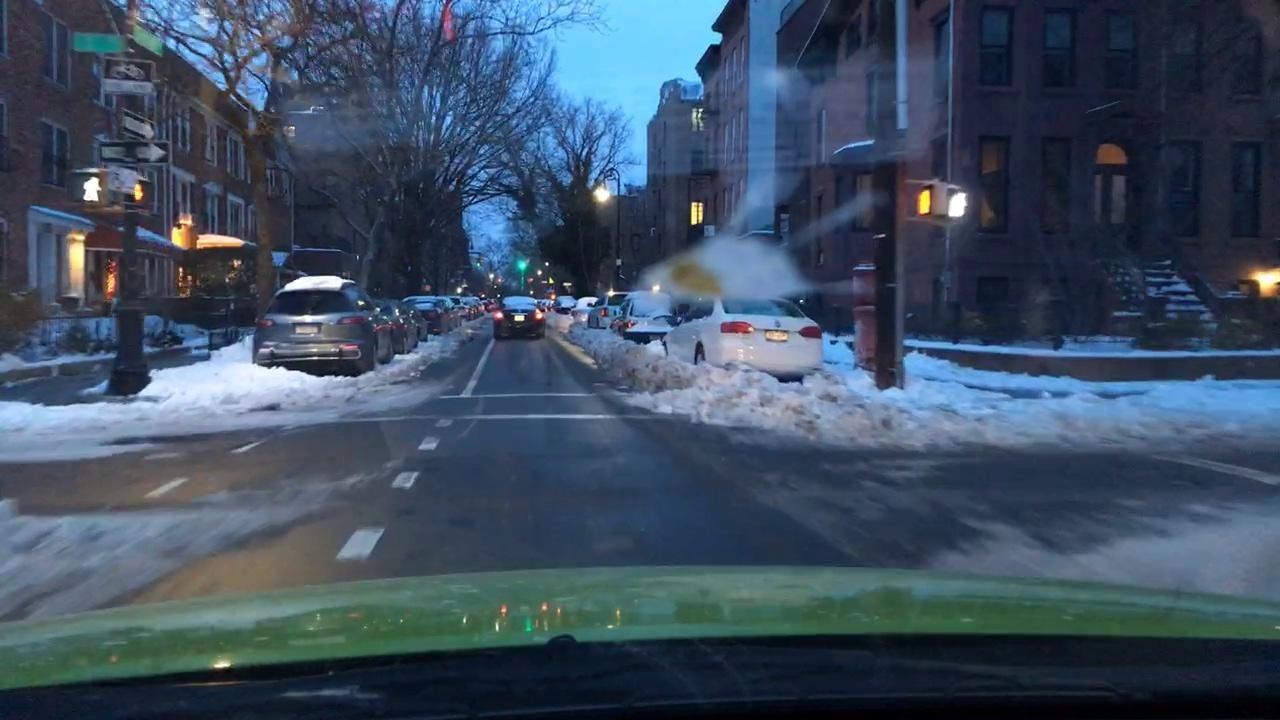car: (666, 291, 828, 387), (254, 276, 398, 375), (374, 293, 431, 358), (617, 292, 679, 347), (492, 292, 547, 342)
